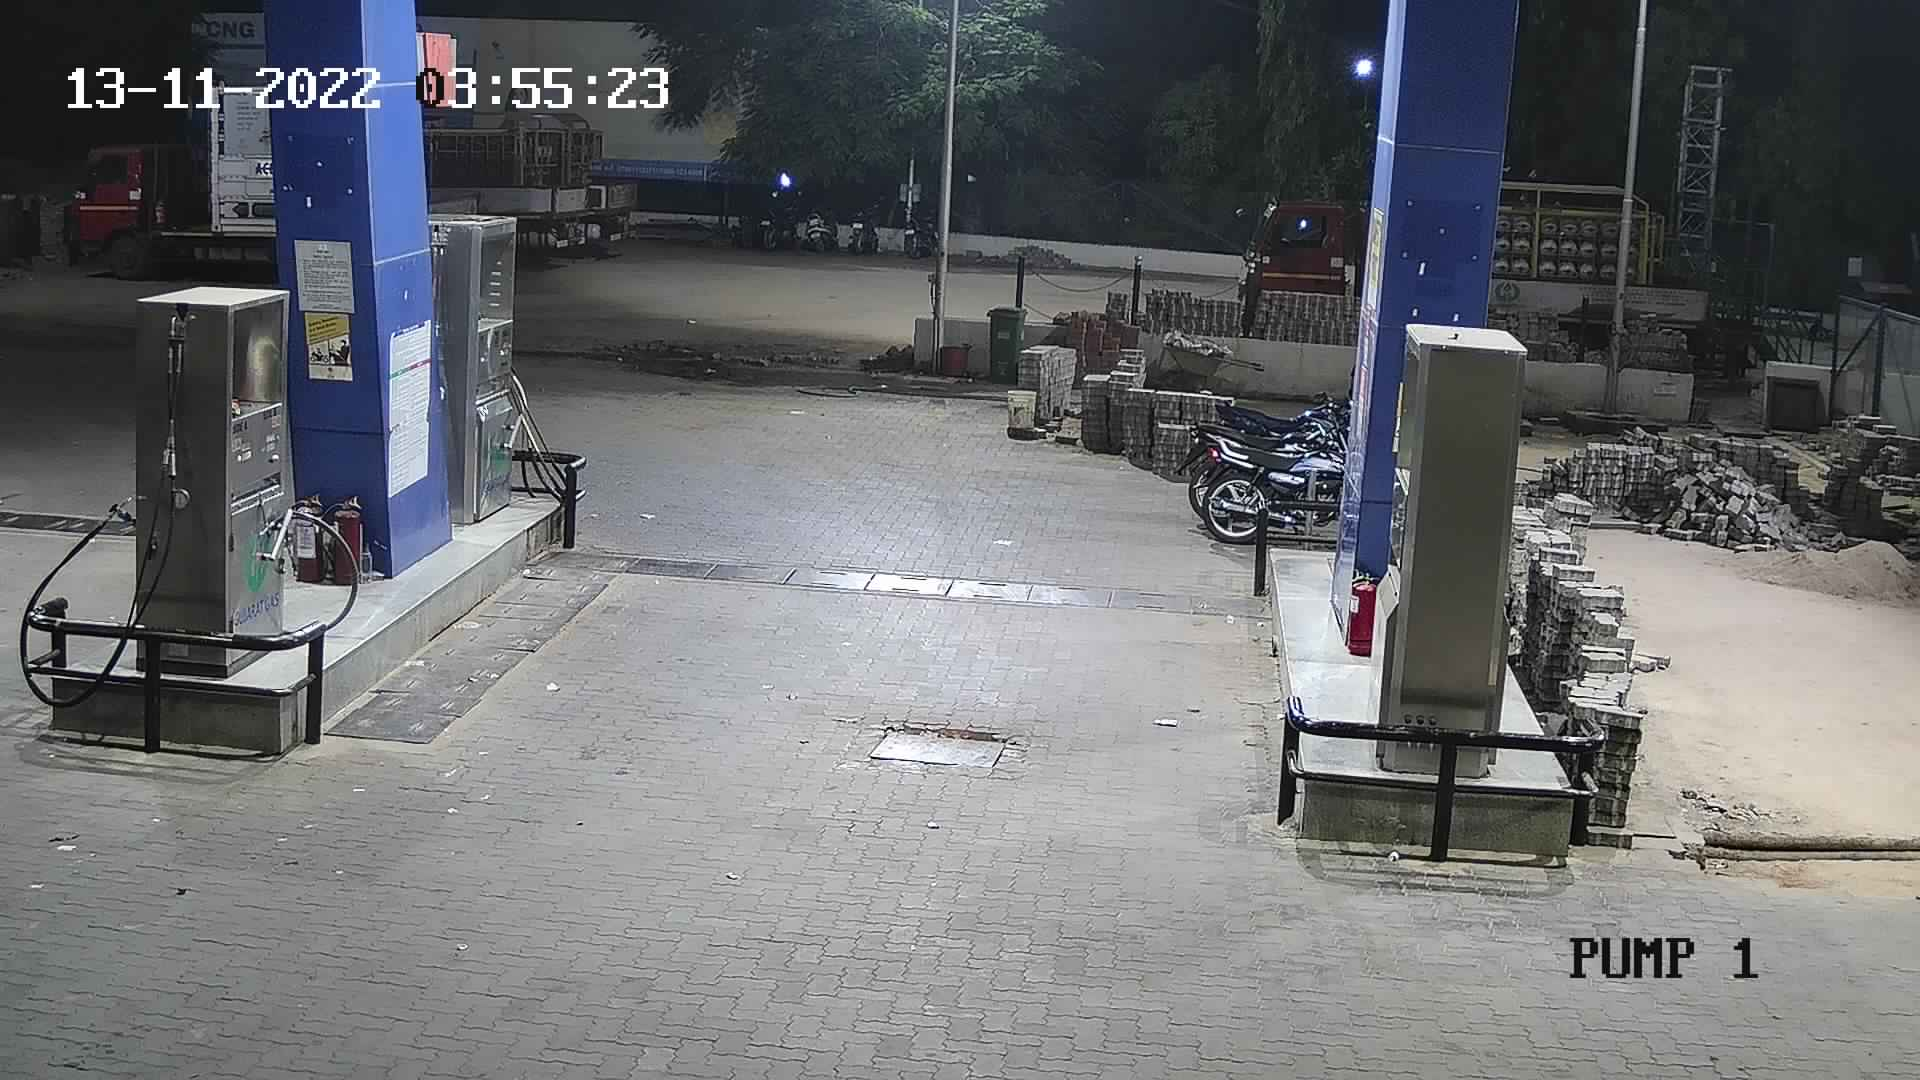Bike: (1175, 398, 1355, 563), (744, 184, 809, 253), (895, 198, 943, 267), (844, 193, 889, 260), (799, 193, 845, 255)
HMV: (57, 66, 280, 286), (409, 83, 655, 269), (1221, 175, 1369, 342)
